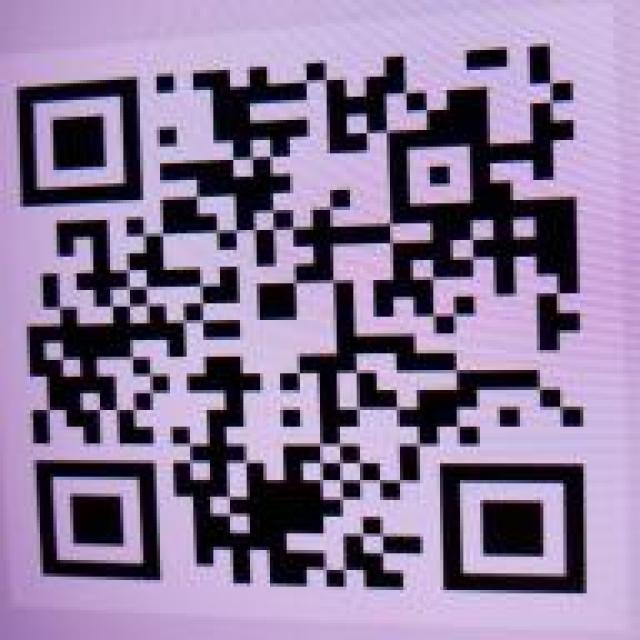qr_code: (17, 43, 586, 594)
